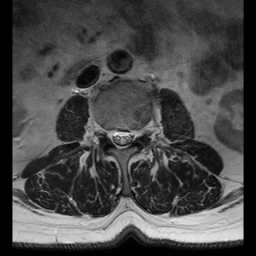CCS_normal: (119, 122, 125, 152)
LFS_normal: (134, 124, 142, 142)
LLS_normal: (125, 125, 133, 149)
RFS_normal: (101, 122, 111, 143)
RLS_normal: (110, 124, 119, 150)
